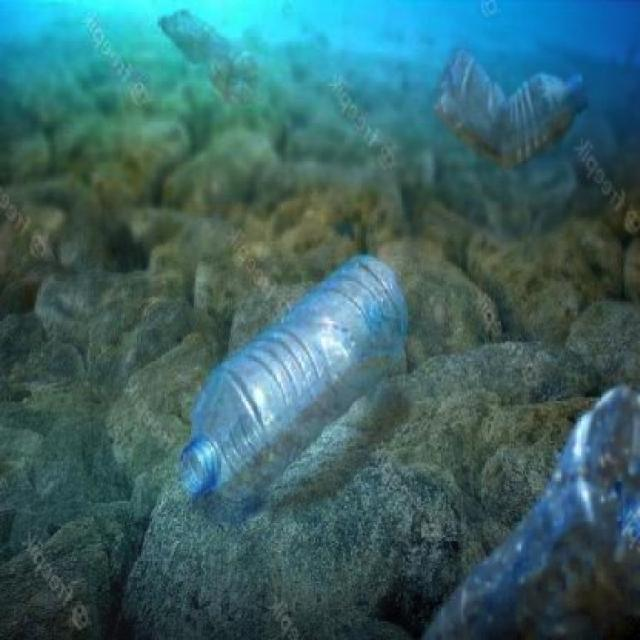pbottle: (397, 348, 640, 638), (163, 250, 426, 493), (422, 48, 593, 164), (153, 6, 269, 114)
